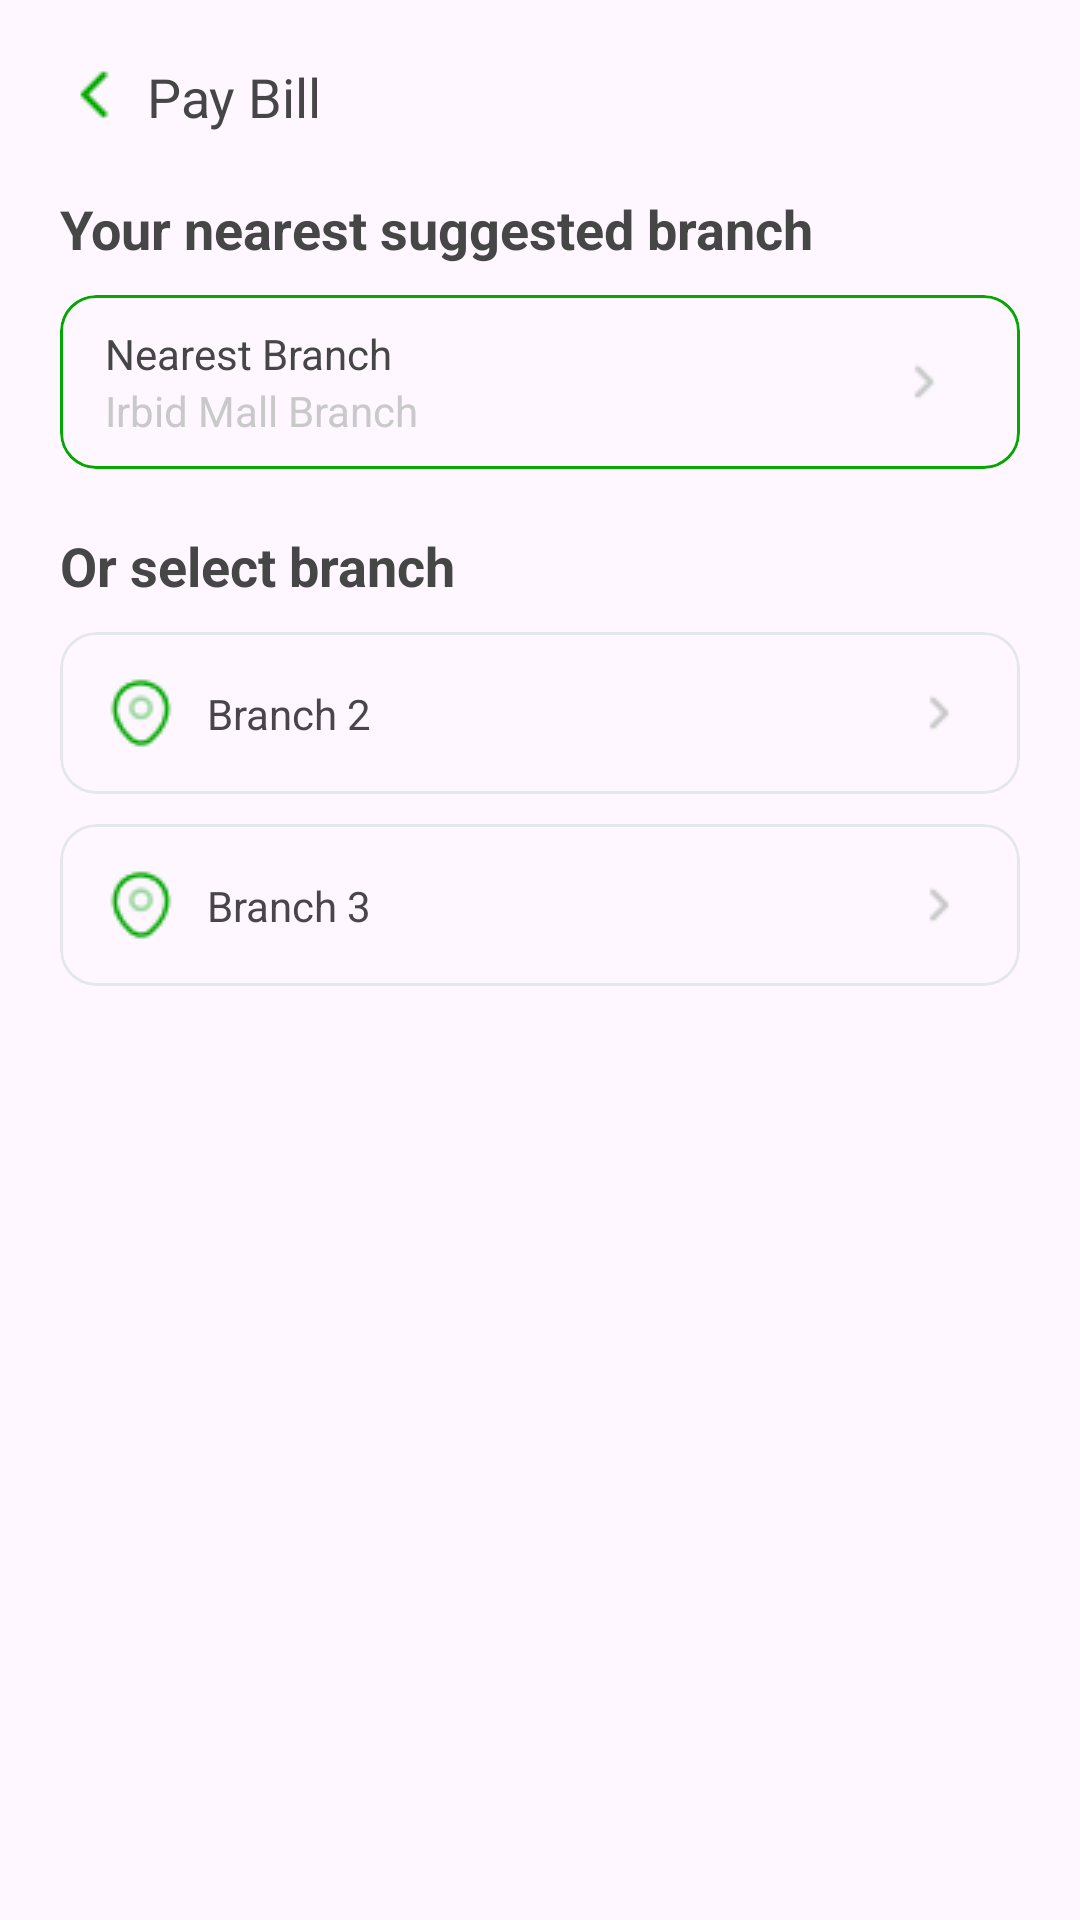

Icon bounding boxes for this 1080*1920 phone screenshot, format box(x1, y1, x2, y2):
arrow: box(915, 366, 933, 397), box(930, 697, 948, 728), box(930, 889, 948, 920)
back: box(80, 71, 109, 118)
location: box(110, 679, 172, 747), box(110, 871, 172, 939)
